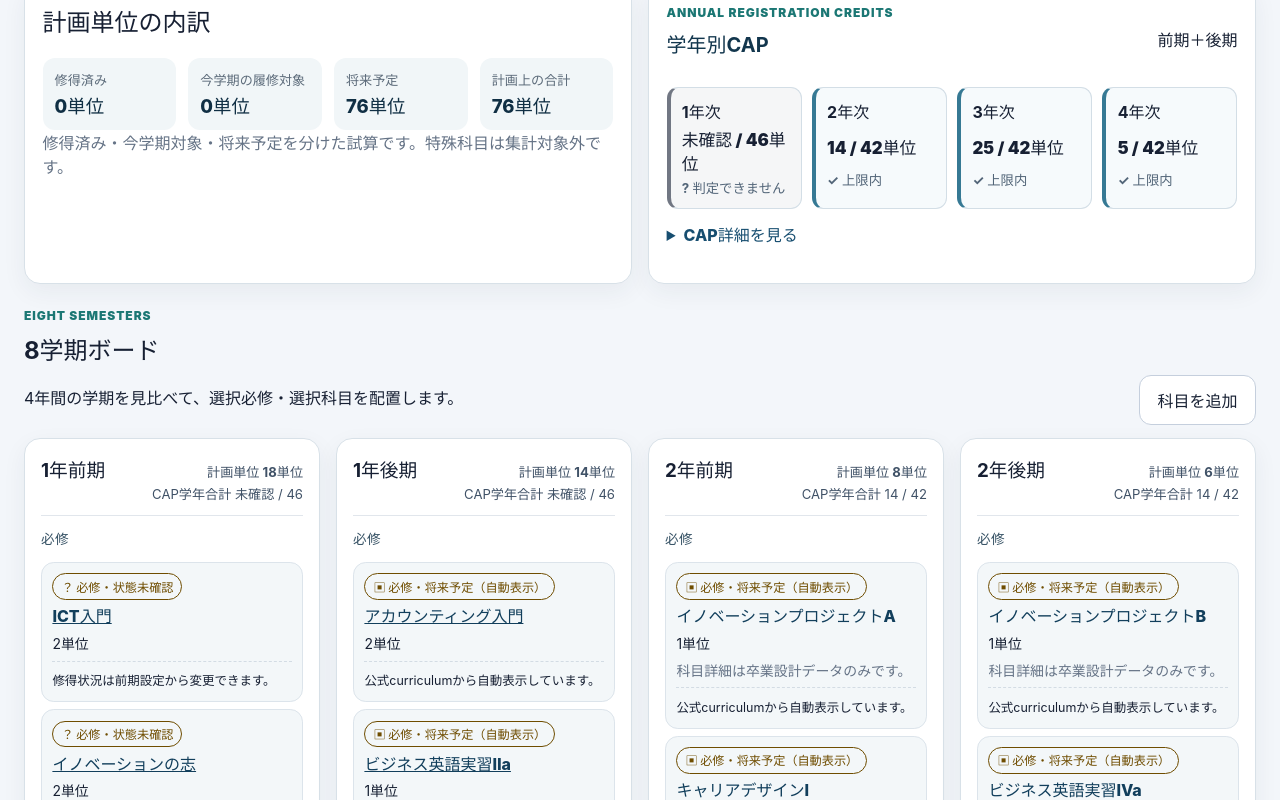
Test: Phase 11C graduation planning UI › 配置済み科目を再検索すると配置先を説明し、追加を防ぐ
(page scrolled)
Click the button "科目を追加".
click(1197, 400)  # box [1139,376,1256,426]
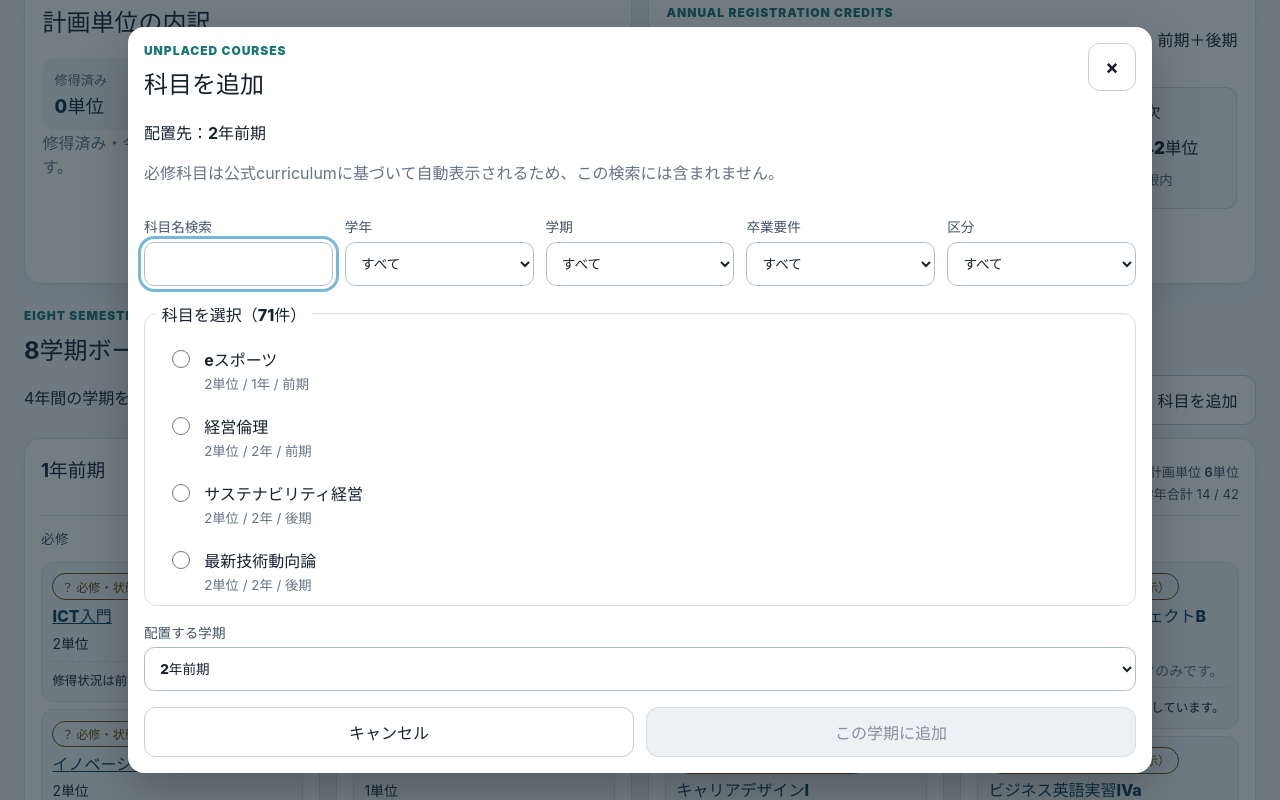
Type "データサイエンス基礎" into the search field labelled "科目名検索".
click(238, 264); type("データサイエンス基礎")  # box [144,242,333,286]
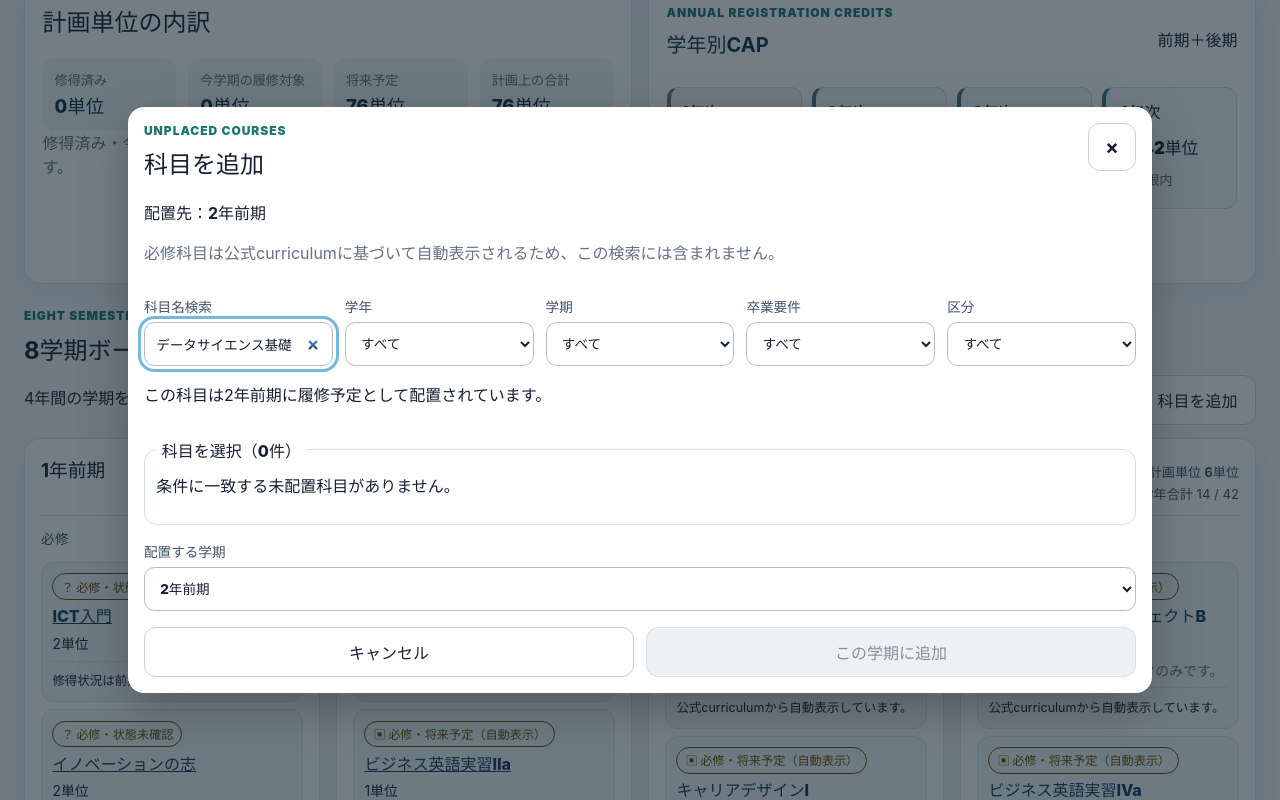
Now the button "この学期に追加" is disabled, box [646,627,1136,677]
Now the text "この科目は2年前期に履修予定として配置されています。" is shown, box [144,385,551,405]
